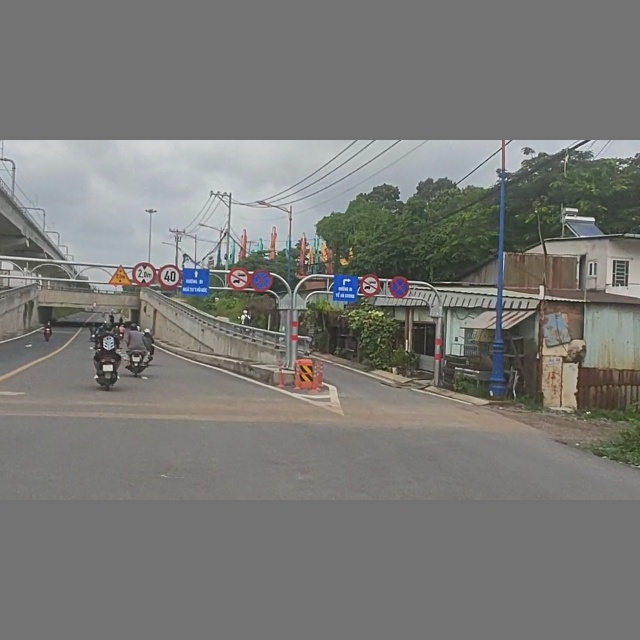P.107: (227, 267, 252, 291), (360, 274, 381, 297)
P.117*: (132, 262, 157, 287)
P.127*40: (158, 264, 183, 289)
P.130: (389, 276, 411, 299), (253, 269, 273, 293)
W.239b*: (109, 265, 132, 287)
